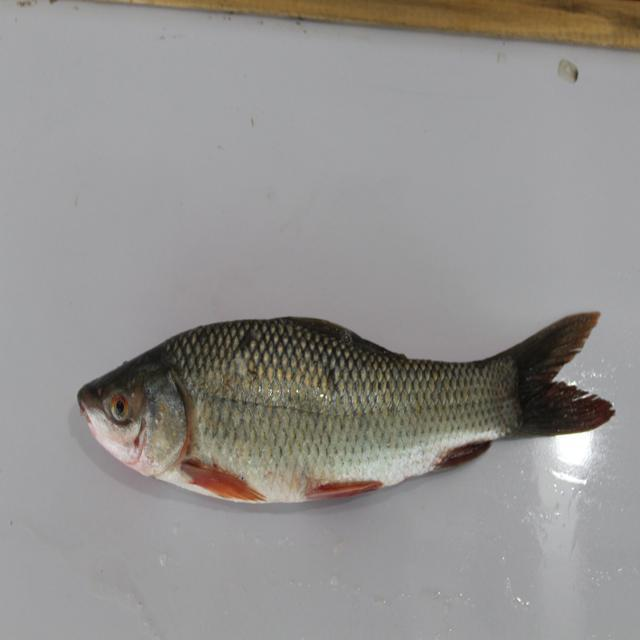Rohu: (48, 312, 615, 504)
